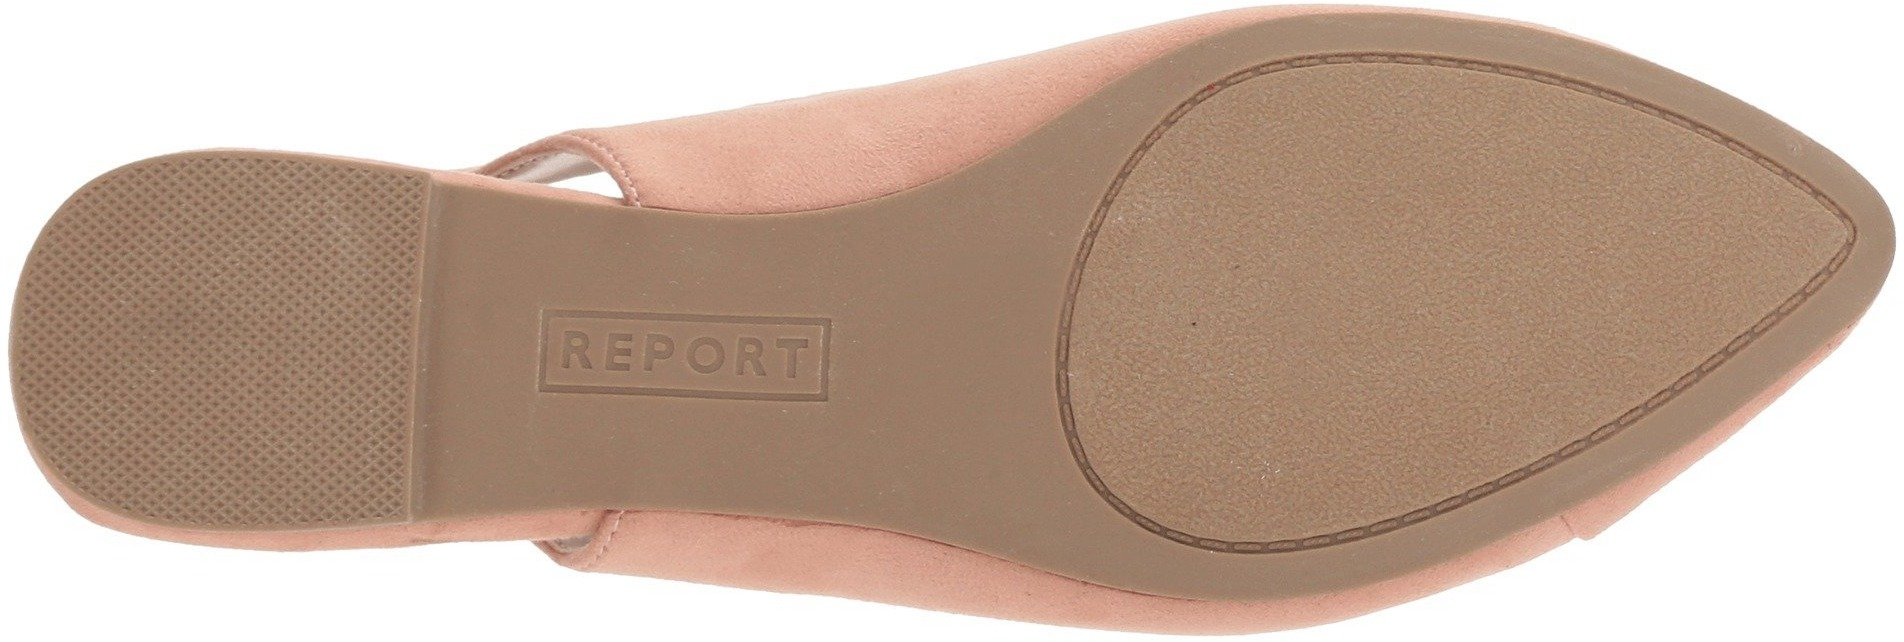circle: (518, 296, 839, 419)
other: (1120, 216, 1428, 485), (1444, 144, 1674, 358), (835, 249, 1056, 467), (302, 405, 399, 498)
quad: (83, 212, 296, 407), (518, 296, 839, 419)
text: (518, 296, 839, 419), (654, 300, 756, 400), (535, 311, 640, 385), (760, 316, 820, 400)
